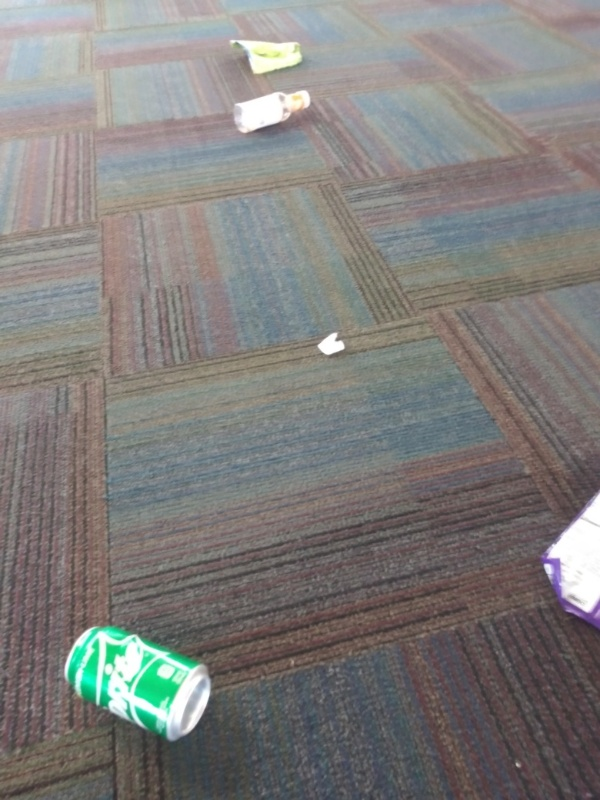bag: (537, 477, 600, 644), (224, 31, 310, 75)
bottle: (231, 87, 316, 132)
can: (58, 624, 216, 750)
